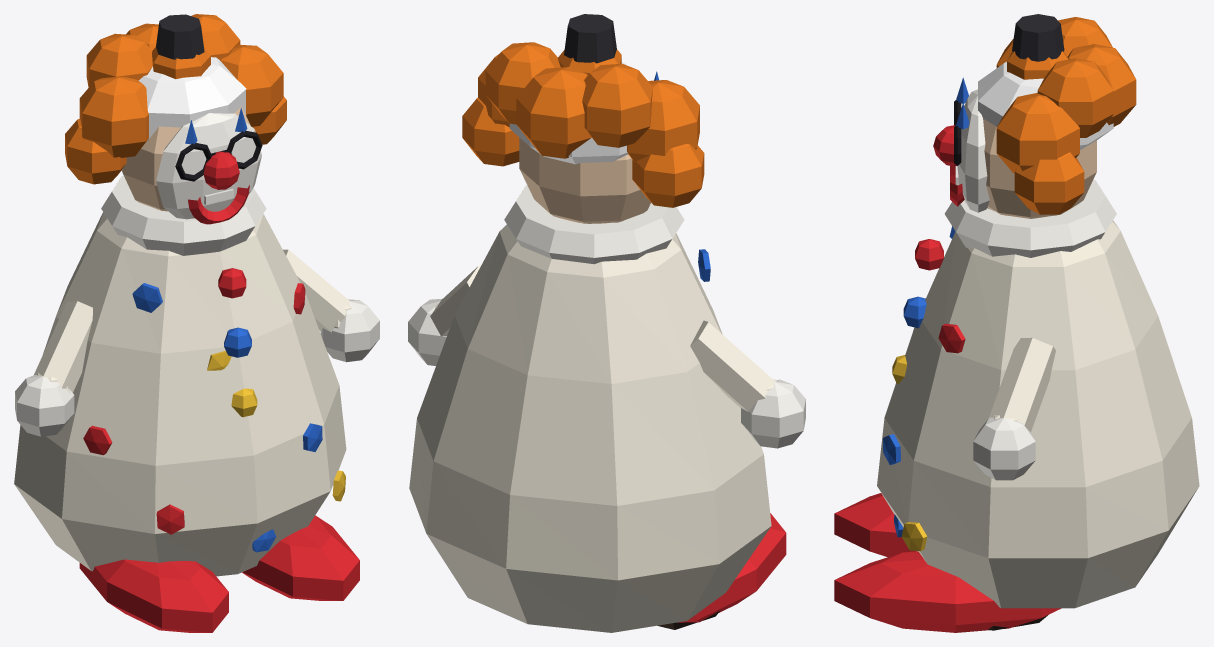
File: npc_payaso.glb
The picture shows the model from 3 angles, left to right: view 1: azimuth 30°, elevation 25°; view 2: azimuth 150°, elevation 25°; view 3: azimuth 270°, elevation 25°; orthographic projection. The views are drawn at different scales.
Parts seen in each view (by area): view 1: body_clown_suit, wig_wig_orange, shoe_left_clown_red, shoe_right_clown_red, body_white, makeup_white, arms_clown_suit, gloves_white, hair_hair, head_skin_crema, body_dot_red, body_dot_blue (+5 smaller); view 2: body_clown_suit, wig_wig_orange, body_white, head_skin_crema, arms_clown_suit, gloves_white, shoe_left_clown_red, wig_hat_tiny, hair_hair; view 3: body_clown_suit, wig_wig_orange, shoe_right_clown_red, body_white, arms_clown_suit, gloves_white, head_skin_crema, shoe_left_clown_red, makeup_white, hair_hair, wig_hat_tiny, body_dot_red (+3 smaller).
Boxes of the visible parts, x1=… form: body_clown_suit: x1=14, y1=212, x2=346, y2=576; wig_wig_orange: x1=65, y1=14, x2=286, y2=184; shoe_left_clown_red: x1=79, y1=559, x2=228, y2=632; shoe_right_clown_red: x1=242, y1=515, x2=359, y2=600; body_white: x1=101, y1=175, x2=266, y2=255; makeup_white: x1=156, y1=113, x2=261, y2=219; arms_clown_suit: x1=34, y1=249, x2=351, y2=392; gloves_white: x1=15, y1=299, x2=379, y2=436; hair_hair: x1=138, y1=57, x2=246, y2=139; head_skin_crema: x1=121, y1=106, x2=250, y2=211; body_dot_red: x1=83, y1=268, x2=305, y2=534; body_dot_blue: x1=132, y1=283, x2=322, y2=552; body_clown_suit: x1=409, y1=208, x2=771, y2=632; wig_wig_orange: x1=462, y1=42, x2=704, y2=207; body_white: x1=504, y1=184, x2=684, y2=264; head_skin_crema: x1=519, y1=137, x2=650, y2=223; arms_clown_suit: x1=430, y1=266, x2=776, y2=411; gloves_white: x1=408, y1=298, x2=805, y2=448; shoe_left_clown_red: x1=677, y1=513, x2=786, y2=622; wig_hat_tiny: x1=564, y1=14, x2=616, y2=63; hair_hair: x1=509, y1=62, x2=628, y2=164; body_clown_suit: x1=877, y1=204, x2=1199, y2=608; wig_wig_orange: x1=996, y1=17, x2=1136, y2=214; shoe_right_clown_red: x1=834, y1=551, x2=1061, y2=632; body_white: x1=944, y1=179, x2=1116, y2=257; arms_clown_suit: x1=989, y1=337, x2=1055, y2=431; gloves_white: x1=973, y1=417, x2=1035, y2=480; head_skin_crema: x1=983, y1=118, x2=1096, y2=218; shoe_left_clown_red: x1=834, y1=493, x2=916, y2=557; makeup_white: x1=957, y1=89, x2=989, y2=212; hair_hair: x1=978, y1=61, x2=1113, y2=149; wig_hat_tiny: x1=1012, y1=14, x2=1064, y2=61; body_dot_red: x1=915, y1=239, x2=965, y2=353.
Bounding box in the file's own units: 1.14 × 1.67 × 0.9734.
